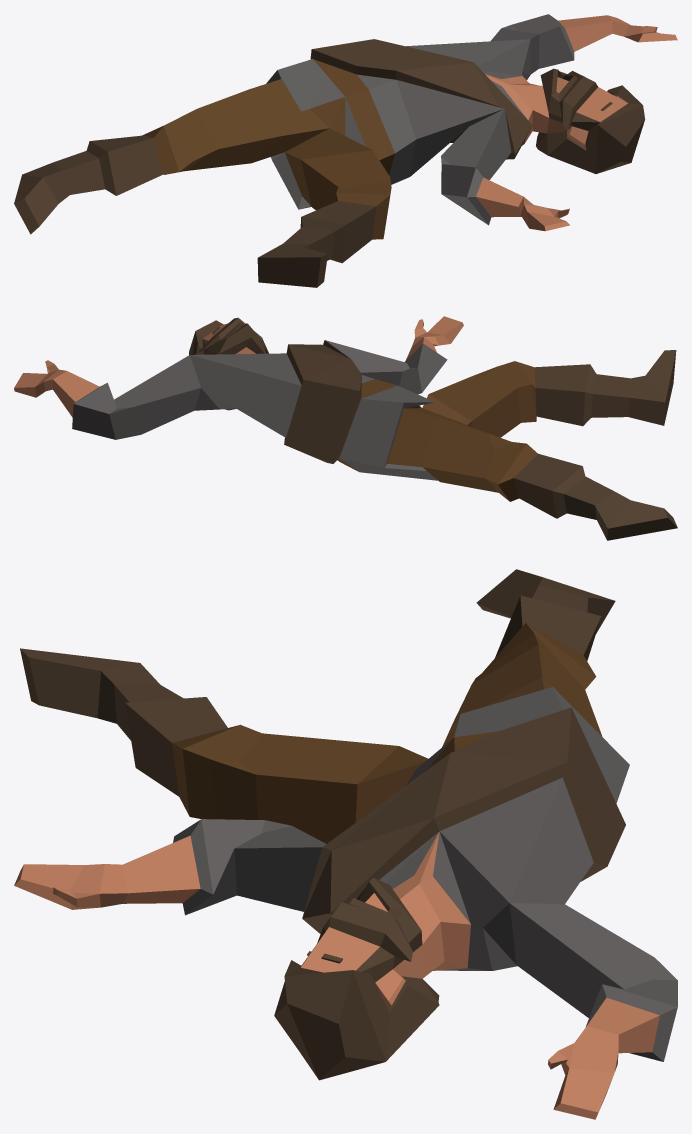
Rendered from dead body.fbx.
3 views of the same model, one above another, from view 1: azimuth 30°, elevation 25°; view 2: azimuth 150°, elevation 25°; view 3: azimuth 270°, elevation 25° (orthographic). The views are drawn at different scales.
Parts seen in each view (by area): view 1: dead body; view 2: dead body; view 3: dead body.
Part boxes in pixels (x1=…): dead body: x1=14, y1=14, x2=677, y2=287; dead body: x1=14, y1=316, x2=677, y2=540; dead body: x1=14, y1=569, x2=677, y2=1119.
Size of the model in its own units: 218 by 36.84 by 116.
